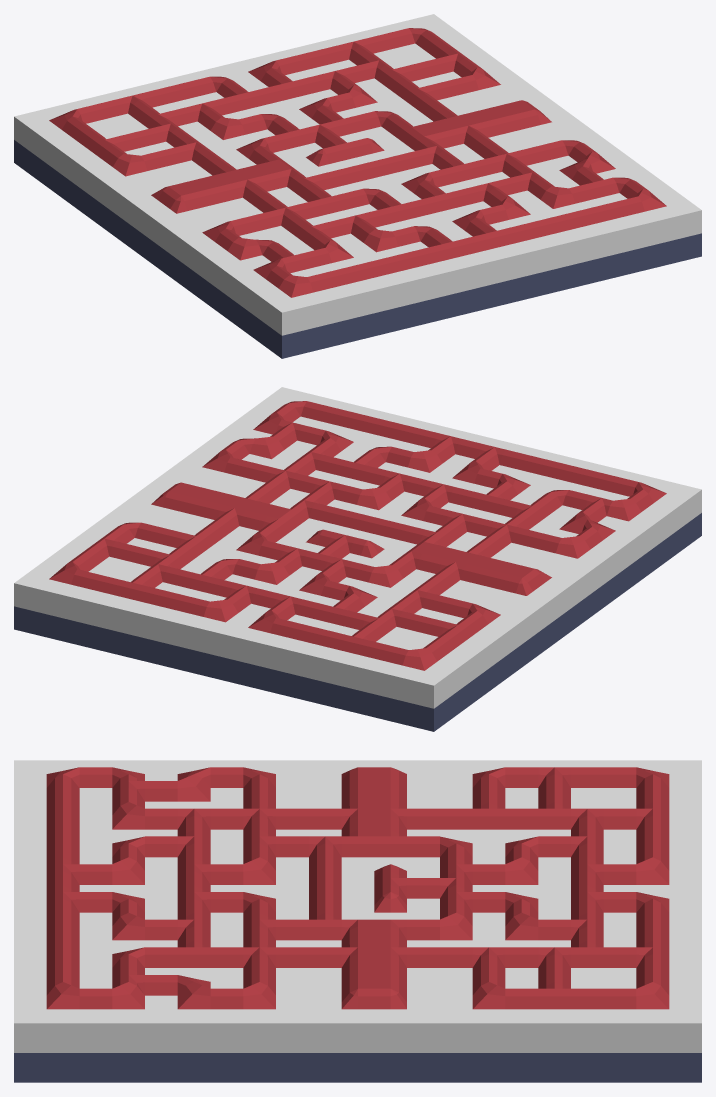
The model's file is Pac-Simple-Map.fbx.
3 renders of one model, top to bottom at view 1: azimuth 30°, elevation 25°; view 2: azimuth 150°, elevation 25°; view 3: azimuth 270°, elevation 25°, orthographic. The views are drawn at different scales.
Parts seen in each view (by area): view 1: Walls, Base; view 2: Walls, Base; view 3: Walls, Base.
Boxes of the visible parts, x1,y1,x2,y2 form: Walls: (14,14,701,335); Base: (14,140,701,358); Walls: (14,387,701,708); Base: (14,513,701,731); Walls: (14,760,701,1052); Base: (14,1053,701,1082).
Bounding box in the file's own units: 1900 × 246 × 2100.
